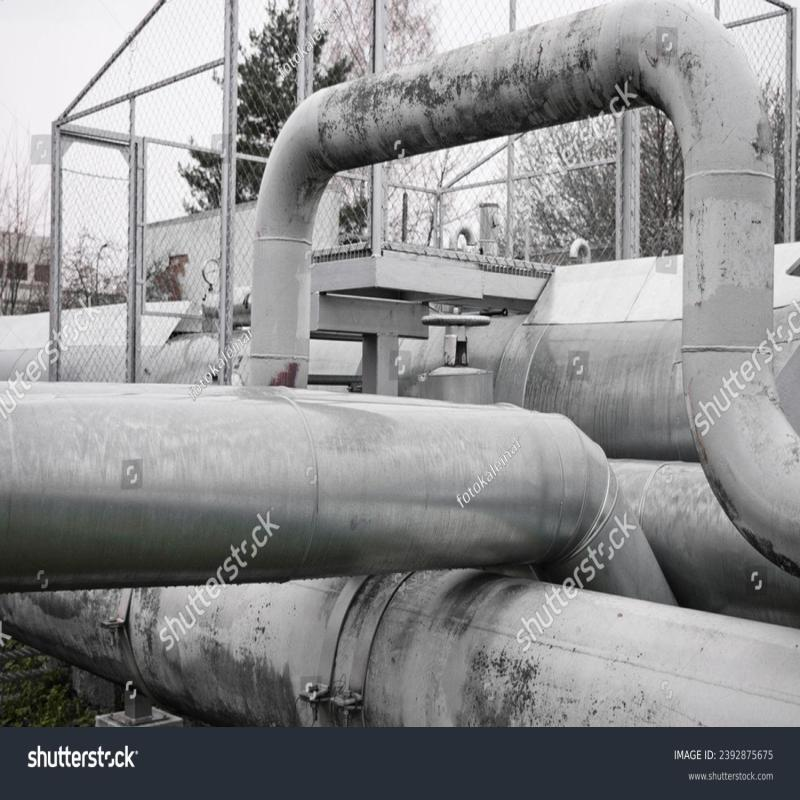Healthy: (23, 380, 578, 593), (277, 0, 727, 155), (237, 155, 320, 402)
